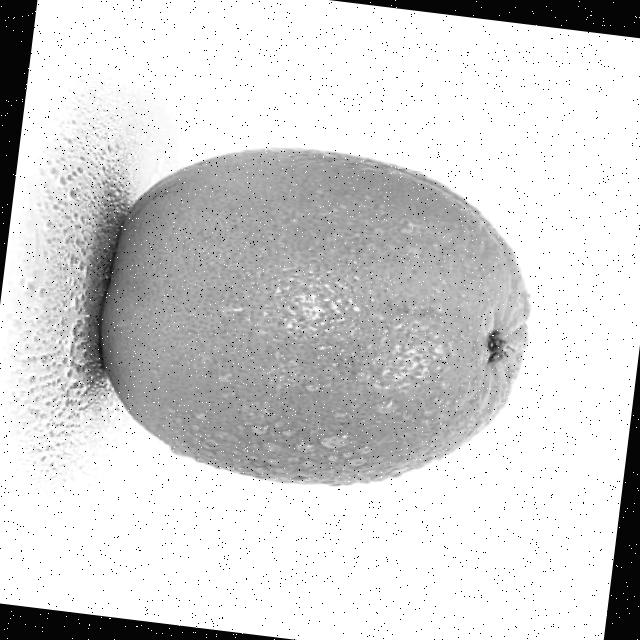Ripe: (78, 119, 555, 516)
